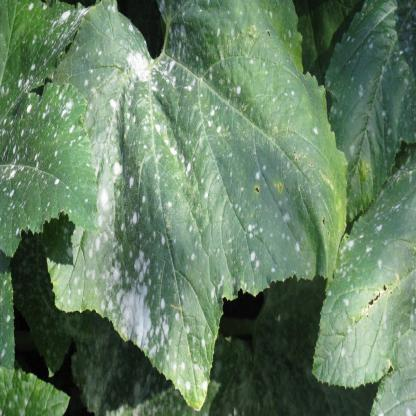squash powdery mildew leaf: (28, 1, 358, 414)
